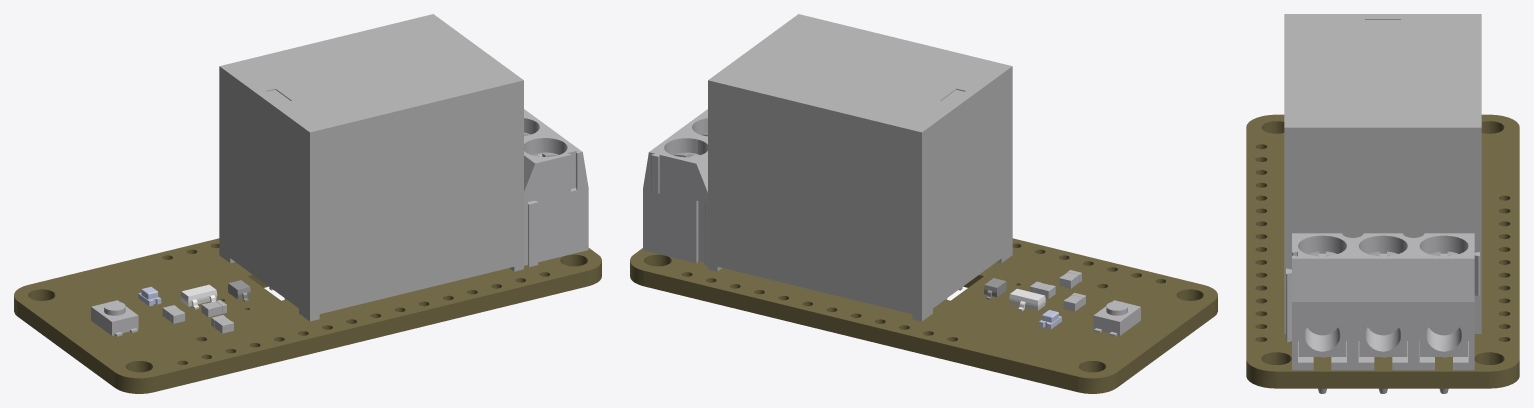
The model's file is ada-3191.glb.
3 views of the same model, side by side, from view 1: azimuth 30°, elevation 25°; view 2: azimuth 150°, elevation 25°; view 3: azimuth 270°, elevation 25° (orthographic). The views are drawn at different scales.
Visible parts, largest first — view 1: 0.5_0.5_0.5_0.85, 0.16666666666666666_0.16666666666666666_0.08333333333333333_, 0.5833333333333334_0.5833333333333334_0.5833333333333334_0.8, 0.9166666666666666_0.9166666666666666_0.9166666666666666_0.8; view 2: 0.5_0.5_0.5_0.85, 0.16666666666666666_0.16666666666666666_0.08333333333333333_, 0.5833333333333334_0.5833333333333334_0.5833333333333334_0.8, 0.9166666666666666_0.9166666666666666_0.9166666666666666_0.8; view 3: 0.5_0.5_0.5_0.85, 0.16666666666666666_0.16666666666666666_0.08333333333333333_, 0.5833333333333334_0.5833333333333334_0.5833333333333334_0.8.
Part boxes in pixels (x1,y1,x2,y2): 0.5_0.5_0.5_0.85: [219, 14, 523, 321]; 0.16666666666666666_0.16666666666666666_0.08333333333333333_: [14, 238, 601, 393]; 0.5833333333333334_0.5833333333333334_0.5833333333333334_0.8: [91, 109, 588, 336]; 0.9166666666666666_0.9166666666666666_0.9166666666666666_0.8: [180, 284, 217, 309]; 0.5_0.5_0.5_0.85: [708, 14, 1012, 321]; 0.16666666666666666_0.16666666666666666_0.08333333333333333_: [630, 238, 1217, 393]; 0.5833333333333334_0.5833333333333334_0.5833333333333334_0.8: [643, 109, 1140, 336]; 0.9166666666666666_0.9166666666666666_0.9166666666666666_0.8: [1009, 288, 1045, 311]; 0.5_0.5_0.5_0.85: [1284, 14, 1481, 333]; 0.16666666666666666_0.16666666666666666_0.08333333333333333_: [1246, 114, 1519, 388]; 0.5833333333333334_0.5833333333333334_0.5833333333333334_0.8: [1286, 233, 1479, 393].
Bounding box in the file's own units: 5.08 × 2.25 × 2.29.
